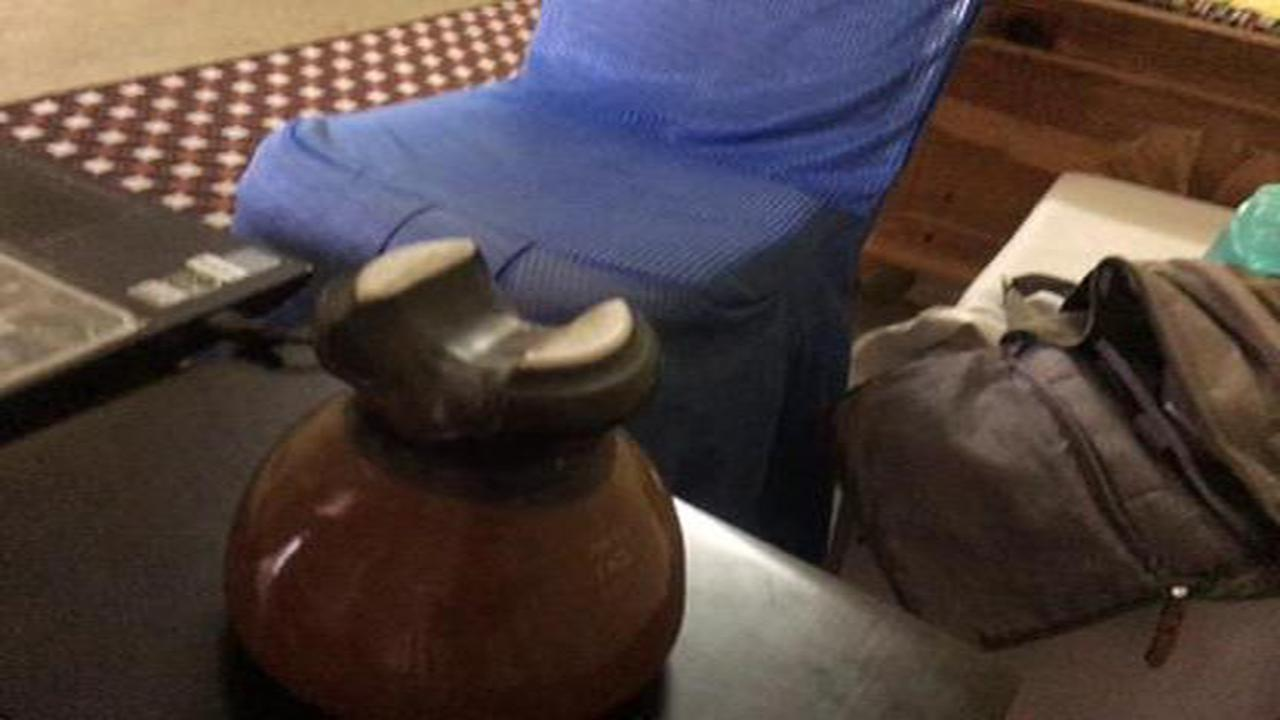insulator_pin: (197, 234, 717, 717)
